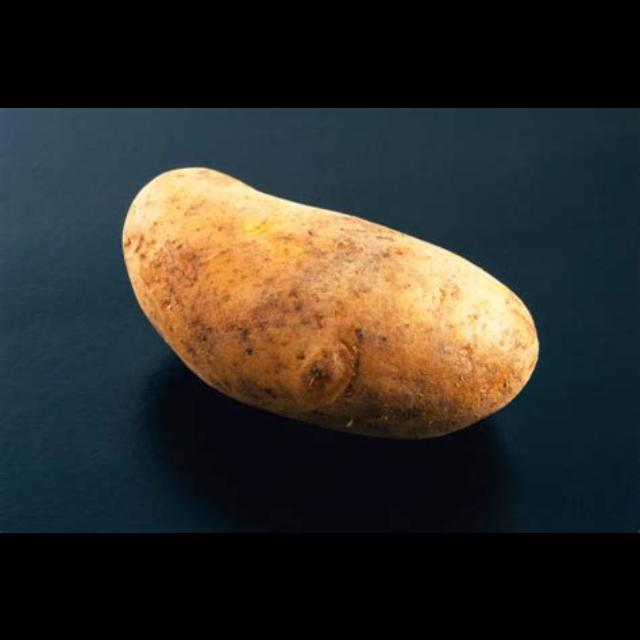Diseased-fungal potato: (126, 166, 542, 440)
